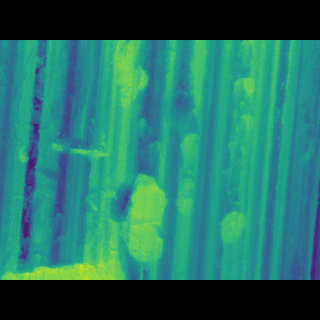Loch: (115, 167, 172, 239), (0, 221, 116, 252), (172, 138, 204, 202), (108, 76, 152, 121), (218, 196, 251, 224), (231, 97, 256, 114)
